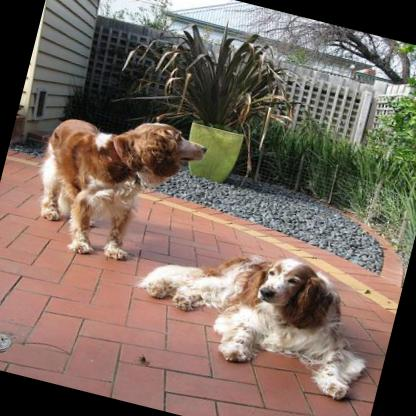Welsh_springer_spaniel: (115, 219, 388, 407), (22, 91, 210, 277)
